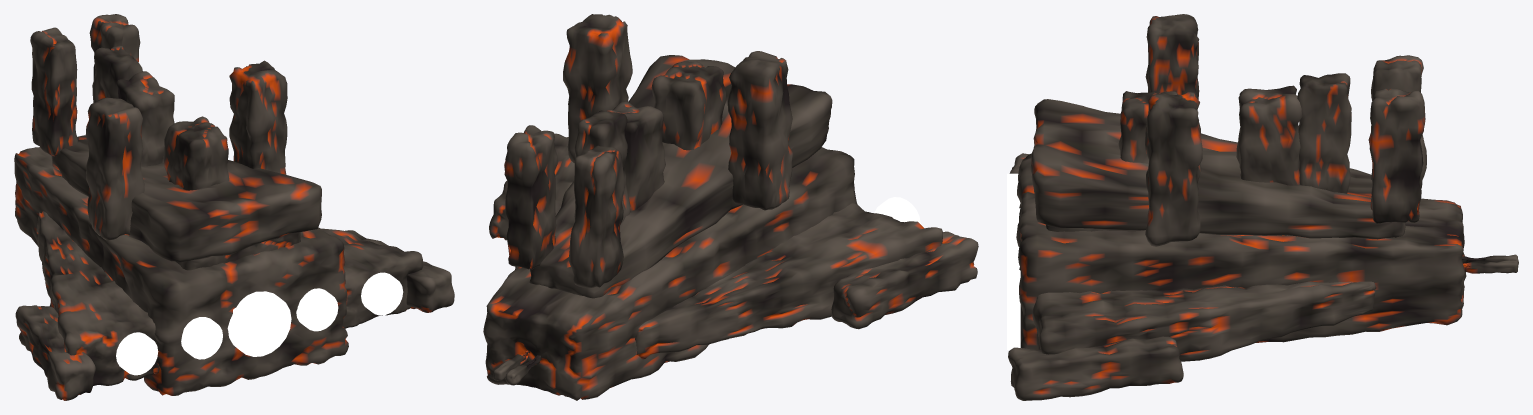
The model's file is thraal_titan.glb.
3 renders of one model, left to right at view 1: azimuth 30°, elevation 25°; view 2: azimuth 150°, elevation 25°; view 3: azimuth 270°, elevation 25°, orthographic. The views are drawn at different scales.
Visible parts, largest first — view 1: thraal_titan.001; view 2: thraal_titan.001; view 3: thraal_titan.001.
Boxes of the visible parts, x1,y1,x2,y2 form: thraal_titan.001: (14,14,454,400); thraal_titan.001: (483,14,978,400); thraal_titan.001: (1007,14,1518,400).
Bounding box in the file's own units: 9.82 × 5.8 × 10.
